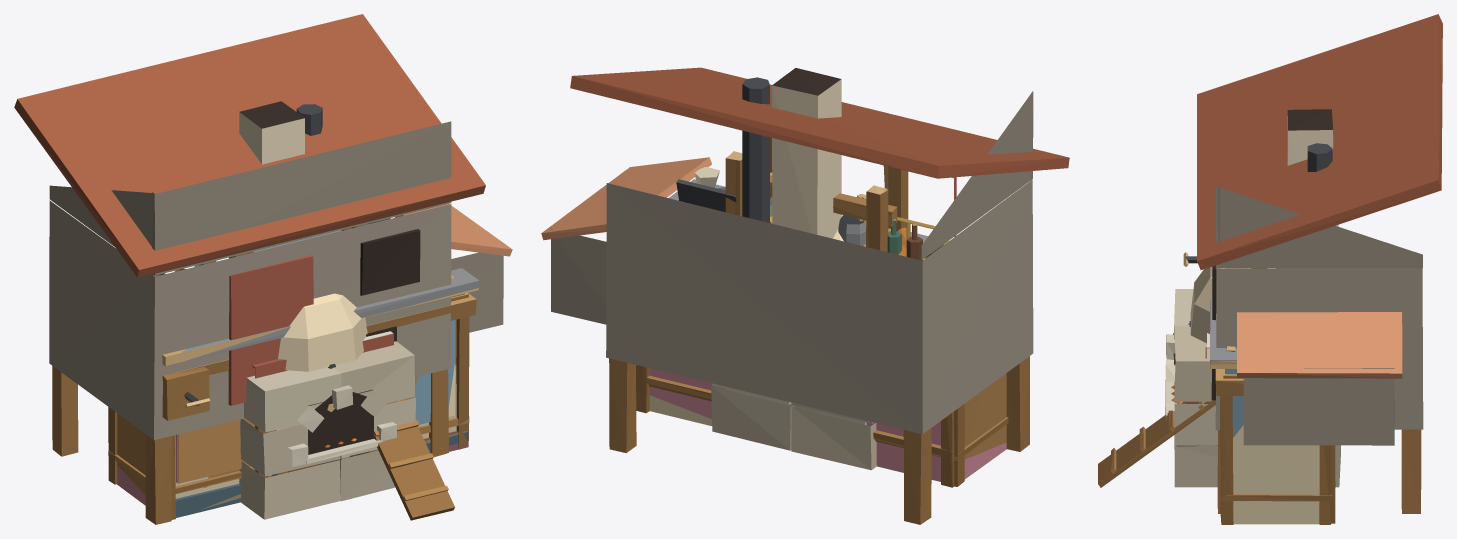
Rendered from aubrune-meubles.glb.
The picture shows the model from 3 angles, left to right: view 1: azimuth 30°, elevation 25°; view 2: azimuth 150°, elevation 25°; view 3: azimuth 270°, elevation 25°; orthographic projection. The views are drawn at different scales.
Parts seen in each view (by area): view 1: poulailler, four, comptoir, etabli, comptoir-epicerie, comptoir-fournil, etal, comptoir-mercerie, cuisiniere; view 2: poulailler, four, comptoir, comptoir-mercerie, cuisiniere, ratelier, plan-de-travail, etabli, miroir, comptoir-fournil, ratelier-forge, comptoir-epicerie (+1 smaller); view 3: poulailler, four, comptoir-fournil, etabli, cuisiniere, comptoir, comptoir-epicerie, plan-de-travail.
Boxes of the visible parts, box(x1,y1,x2,y2) form: poulailler: box(14, 14, 512, 524); four: box(239, 101, 415, 519); comptoir: box(117, 218, 479, 501); etabli: box(108, 293, 476, 519); comptoir-epicerie: box(162, 223, 468, 517); comptoir-fournil: box(162, 288, 478, 509); etal: box(252, 331, 393, 477); comptoir-mercerie: box(117, 275, 478, 505); cuisiniere: box(296, 104, 322, 135); poulailler: box(541, 67, 1069, 524); four: box(711, 68, 876, 470); comptoir: box(668, 179, 1006, 478); comptoir-mercerie: box(649, 244, 1006, 481); cuisiniere: box(725, 77, 866, 425); ratelier: box(728, 151, 897, 251); plan-de-travail: box(636, 365, 954, 487); etabli: box(648, 384, 1008, 486); miroir: box(770, 137, 908, 231); comptoir-fournil: box(649, 227, 940, 481); ratelier-forge: box(725, 156, 896, 247); comptoir-epicerie: box(695, 167, 948, 258); poulailler: box(1098, 14, 1442, 513); four: box(1165, 109, 1340, 487); comptoir-fournil: box(1210, 225, 1337, 524); etabli: box(1183, 252, 1331, 524); cuisiniere: box(1307, 143, 1332, 171); comptoir: box(1210, 225, 1338, 509); comptoir-epicerie: box(1210, 367, 1243, 511); plan-de-travail: box(1223, 369, 1335, 523).
Bounding box in the file's own units: 2.39 × 2.04 × 1.83.
